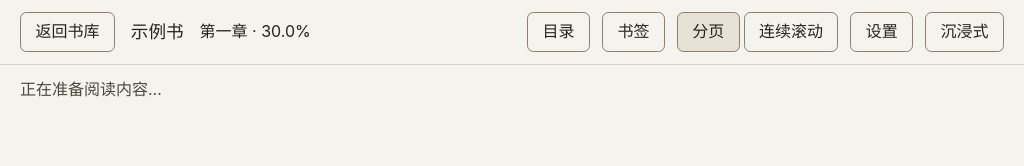
ReaderShell › shows the write failure outside the settings drawer
Click the button "连续滚动" at (791, 32), box [744,12,838,52]
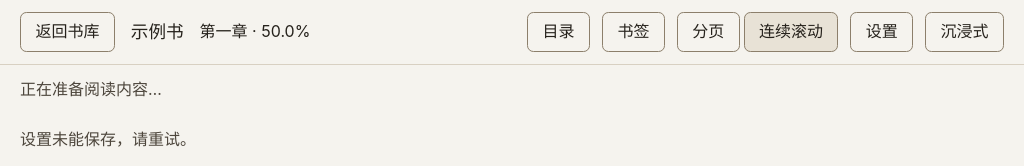
Expected: the text "设置未能保存，请重试。" is shown, [20,129,196,149]
